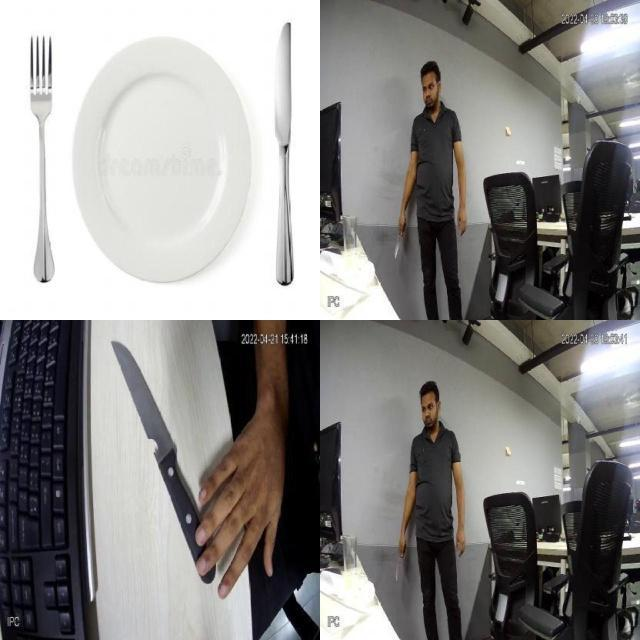-: (106, 338, 211, 584), (268, 23, 294, 264), (392, 229, 404, 261), (394, 549, 406, 581)
